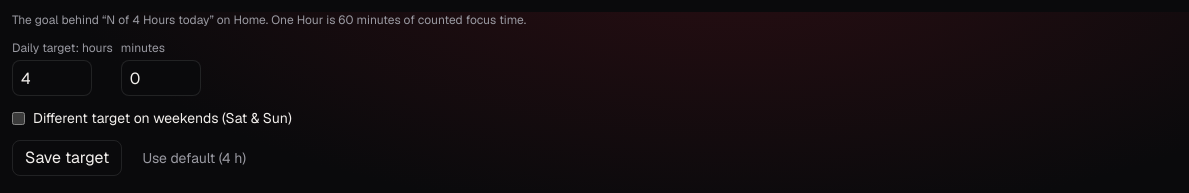
Scenario: FocusTargetSettings › saves hours+minutes as total minutes, with the weekend target null while the override is off
Step 1. Replace the text in the number field named "Daily target hours" with "5" → (52, 78), box [12, 60, 92, 96]
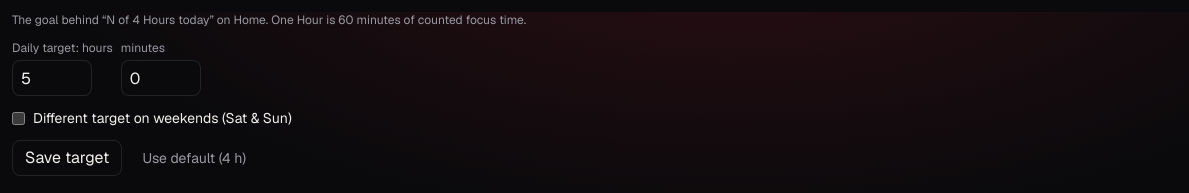
Step 2. Replace the text in the number field named "Daily target minutes" with "30" → (161, 78), box [121, 60, 201, 96]
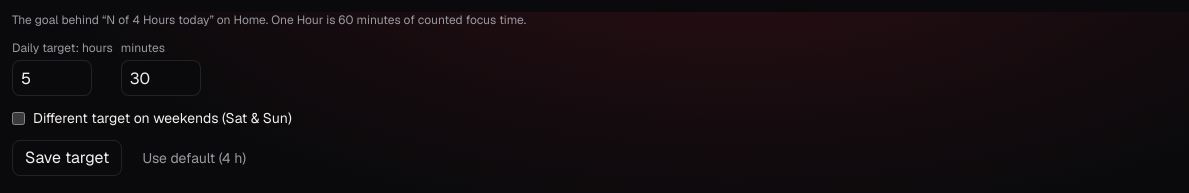
Step 3. Click the button "Save target" → (67, 158), box [12, 140, 122, 176]
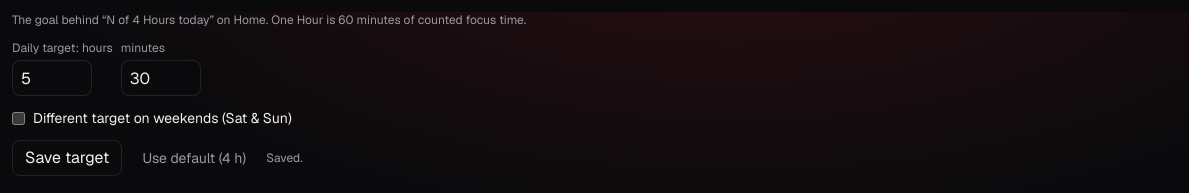
Now the text "Saved." is shown, box [266, 150, 303, 166]
